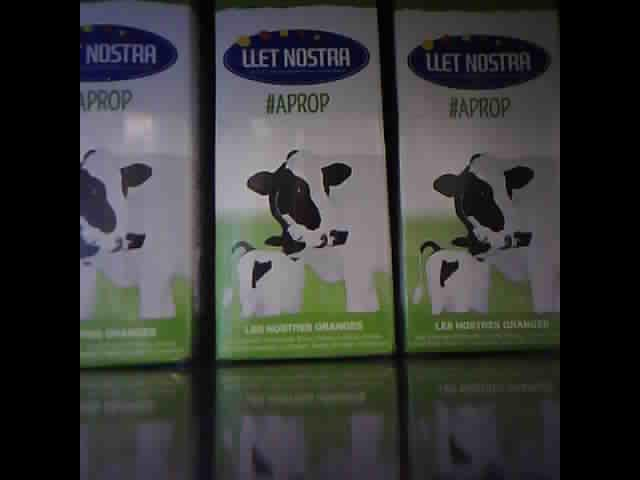leche: (212, 5, 394, 365), (401, 3, 559, 356), (81, 4, 206, 367)
